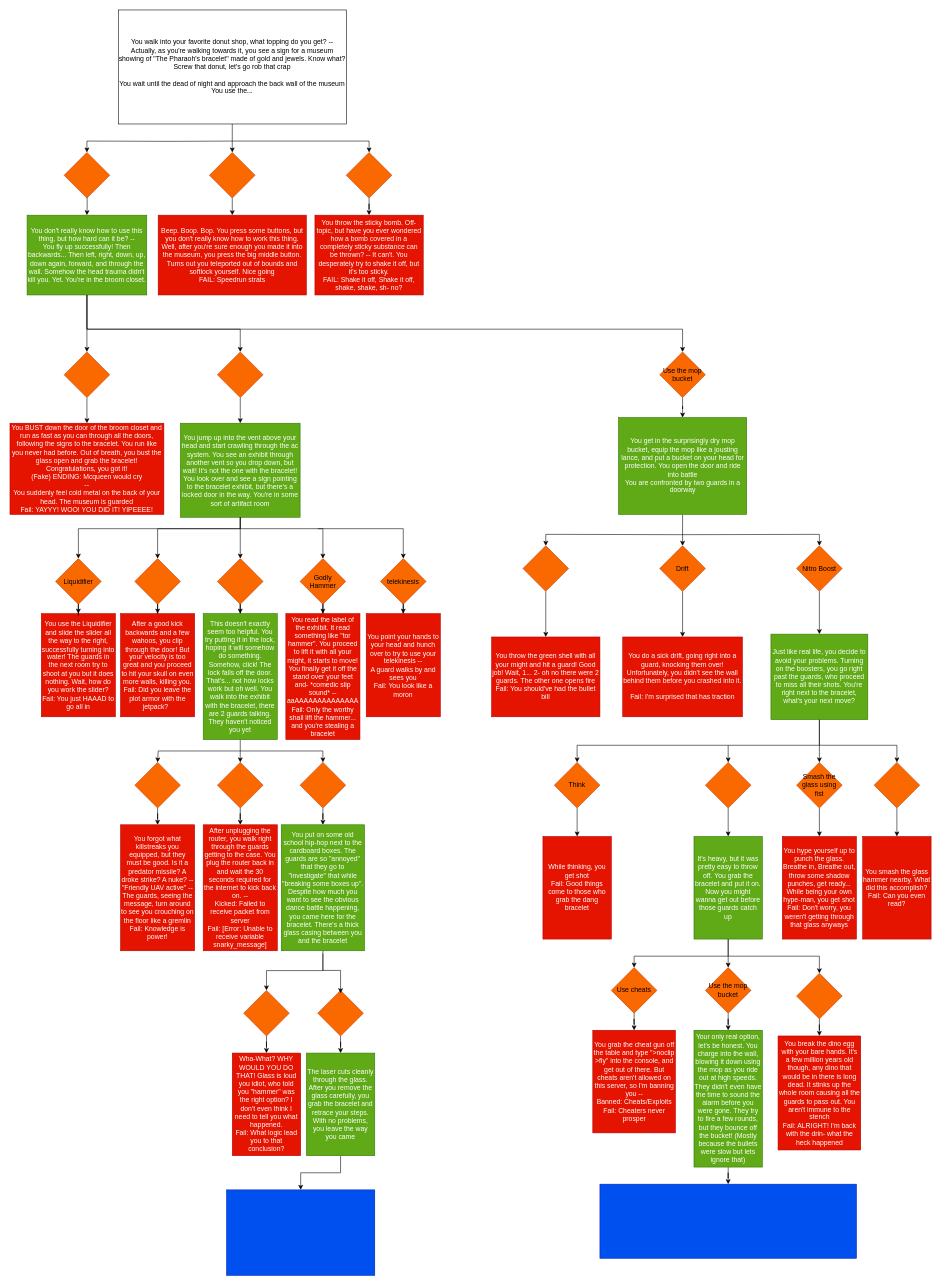
The diagram is 941 pixels wide and 1285 high, and some of its shapes have lost their labels. Each missing label, with the box of its shape:
backwards long jump: (134, 558, 180, 604)
Book it to the exhibit: (64, 351, 110, 398)
Boombox: (300, 762, 346, 808)
Break dino egg: (796, 973, 842, 1019)
ENDING: MOP MASTER: (599, 1184, 856, 1258)
Ending: Venting Ninja: (226, 1189, 375, 1275)
Green Shell: (522, 545, 569, 591)
Jetpack: (64, 152, 110, 198)
Killstreak: (134, 762, 180, 808)
Mummies Hair: (217, 558, 263, 604)
Smash glass using hammer: (243, 990, 289, 1036)
Smash the glass hammer: (874, 762, 920, 808)
Sticky bomb: (346, 152, 392, 198)
Teleporter: (209, 152, 255, 198)
Throw the glass: (705, 762, 751, 808)
Unplug router: (217, 762, 263, 808)
Use laser: (317, 990, 363, 1036)
Vent: (217, 351, 263, 398)
